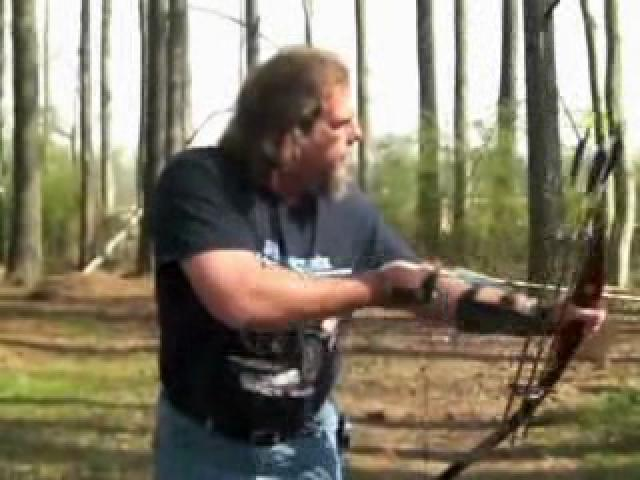I: (151, 38, 604, 353)
